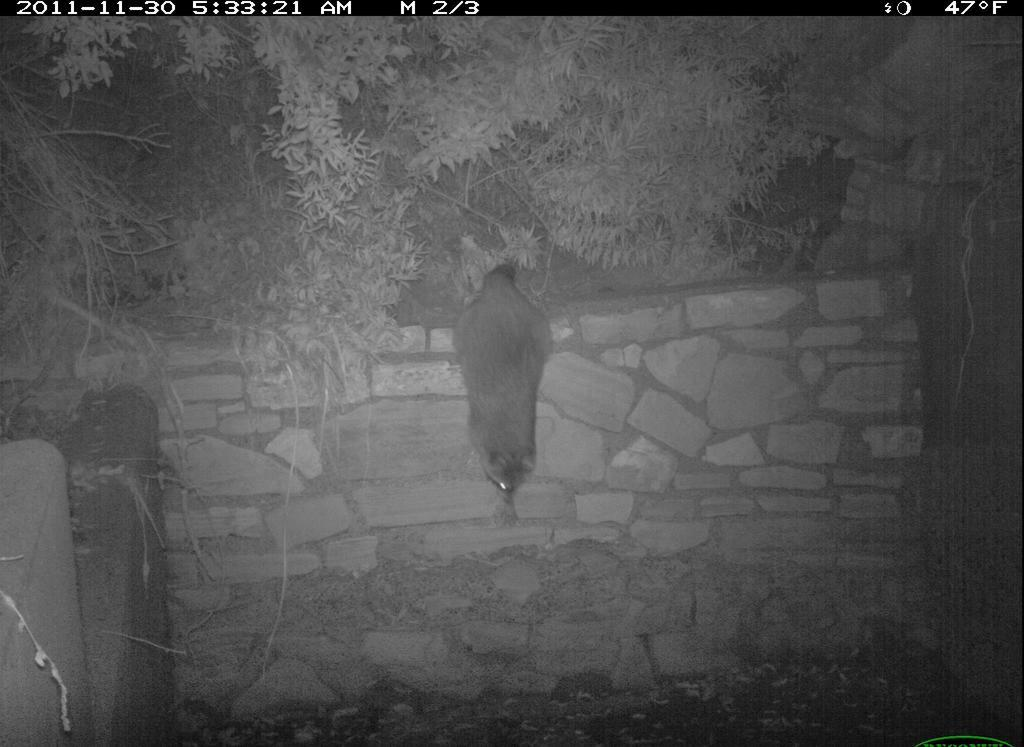raccoon: (424, 276, 575, 514)
